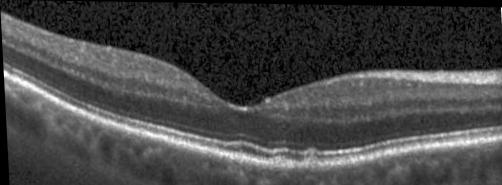retinal_drusen: (270, 156, 296, 169), (306, 156, 319, 170)
